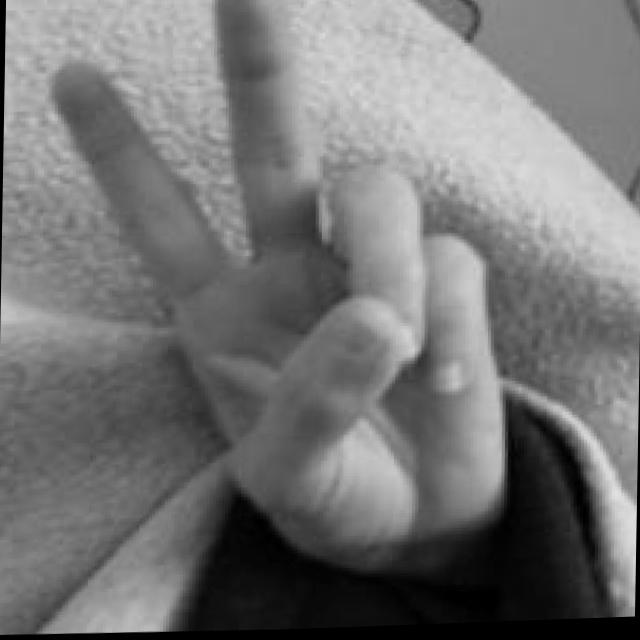V: (39, 0, 515, 585)
